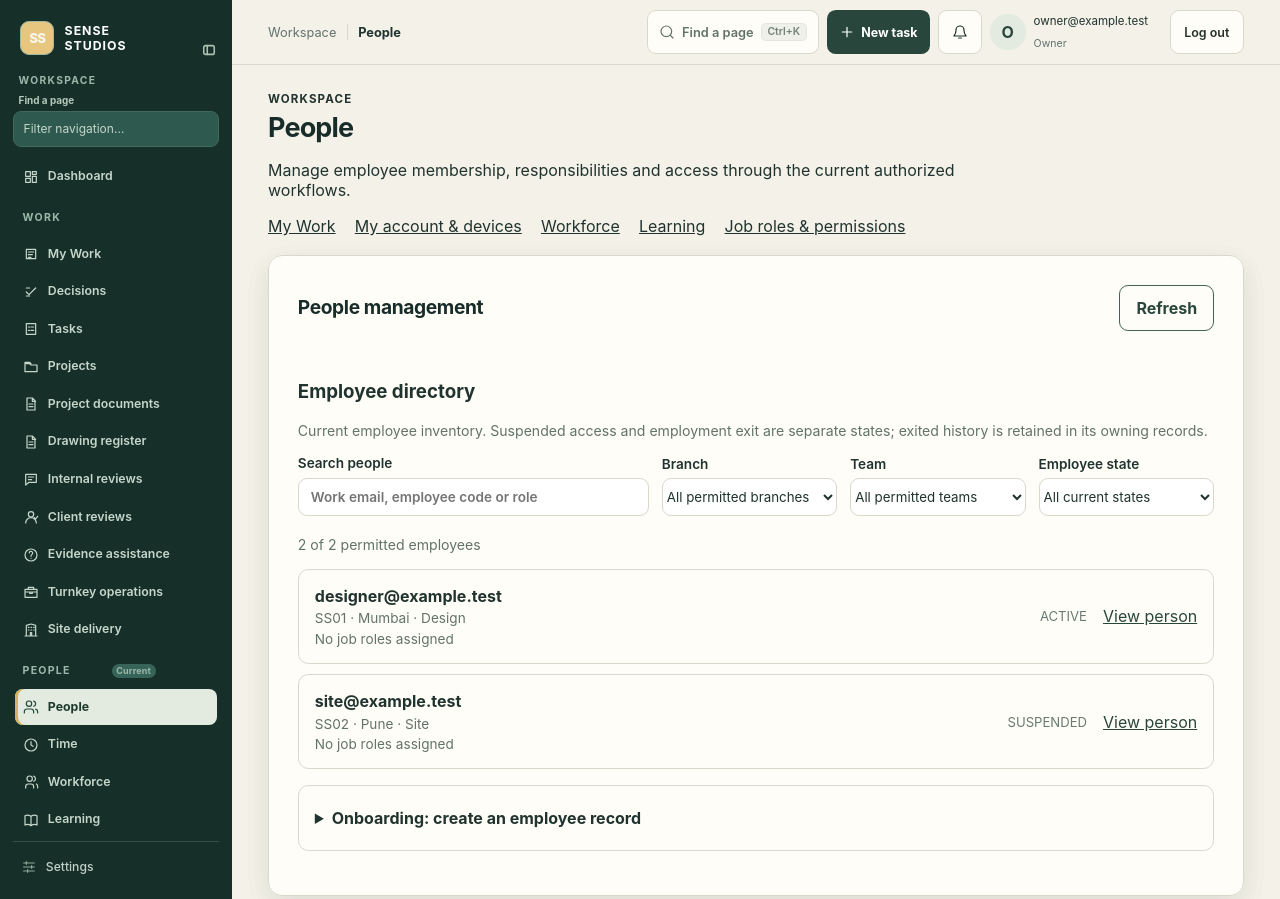
Scenario: People destination › filters authorized people and preserves list filters through selected detail and return
The image size is (1280, 899).
Expected: the heading "Employee directory" is shown, [298, 380, 475, 403]
Select "Mumbai" in the dropdown labelled "Branch" at (750, 497), box [662, 478, 837, 516]
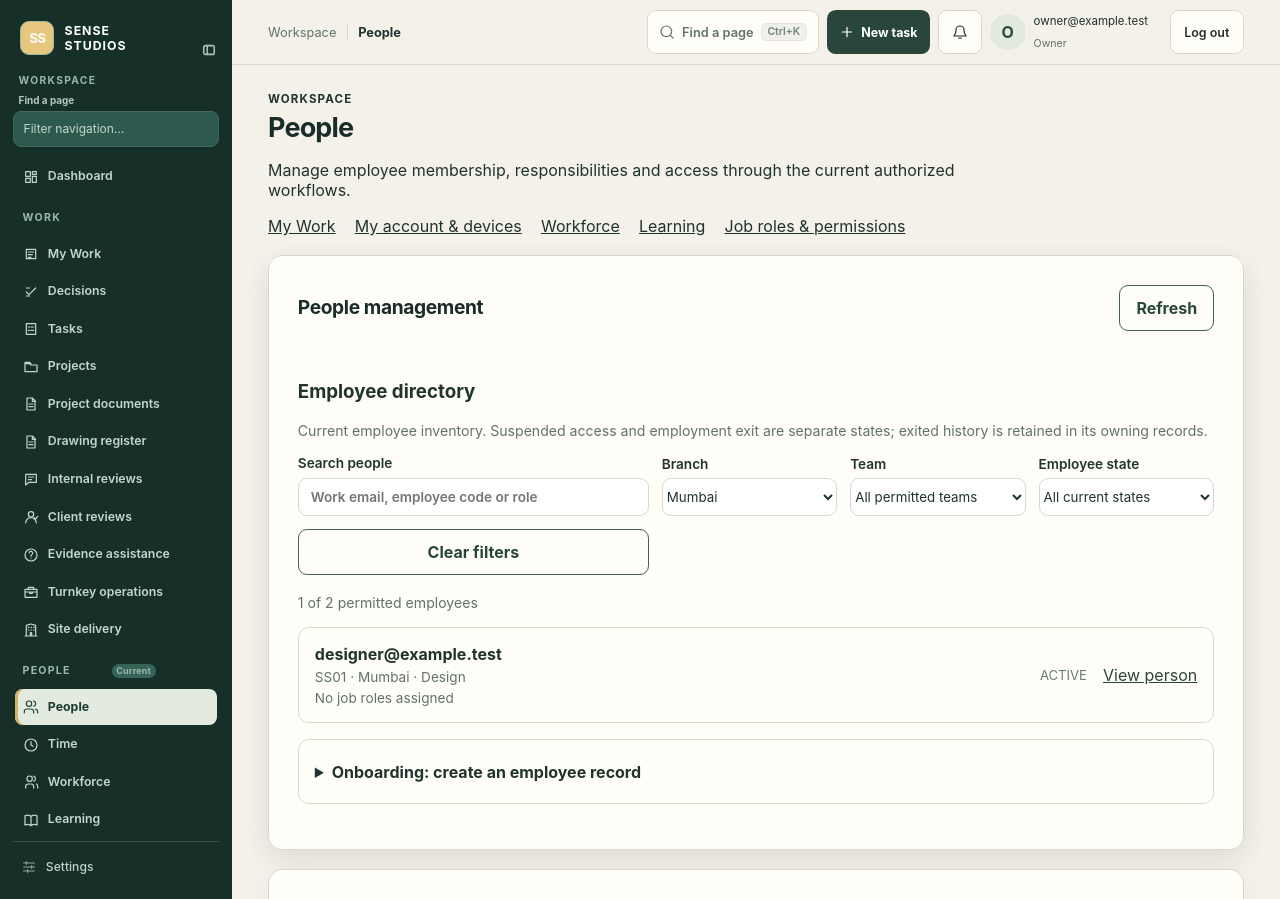
Click the link with aria-label "View designer@example.test" at (1150, 675), box [1103, 665, 1197, 685]
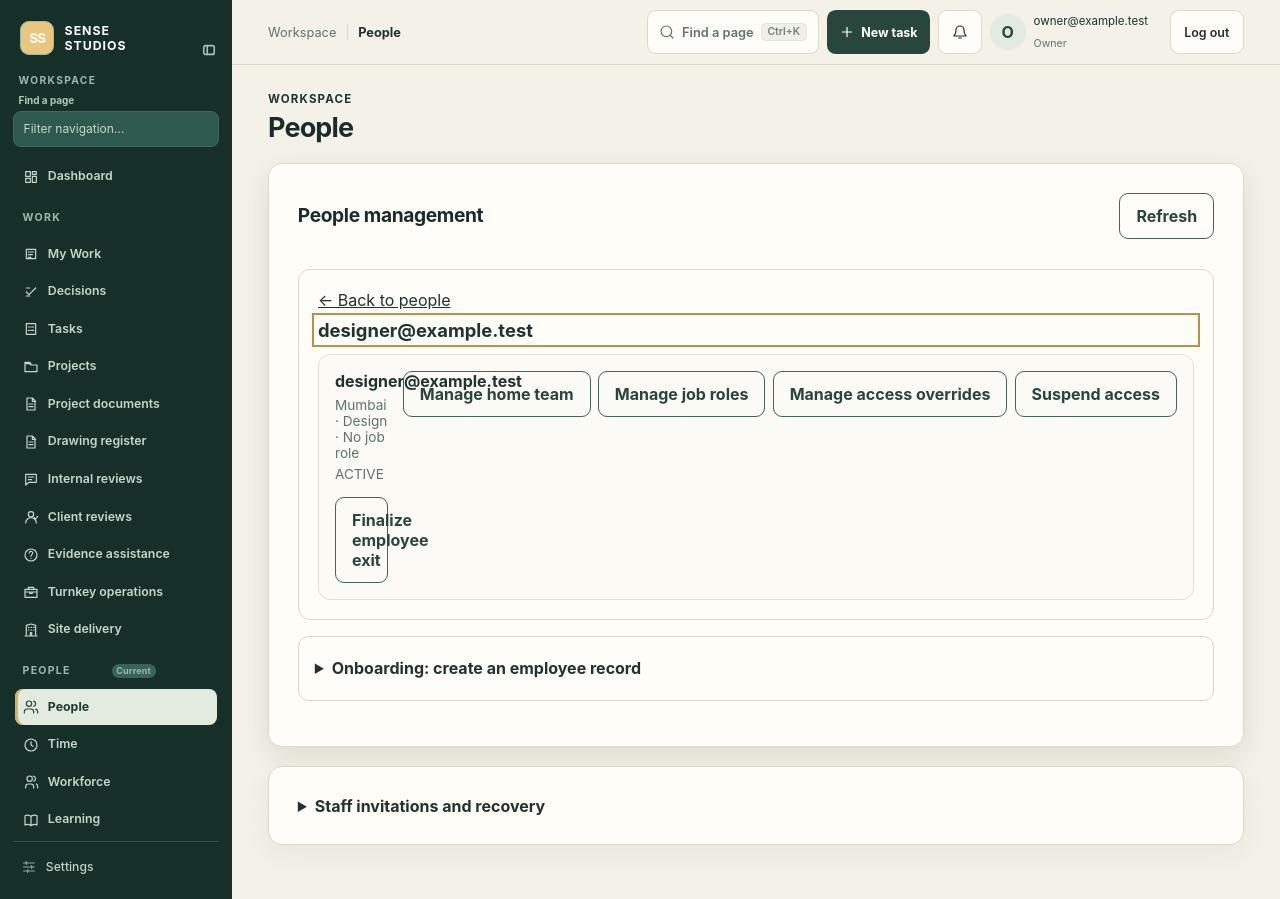
Expected: the text "site@example.test" is not shown
Expected: the button "Manage home team" is shown, [403, 371, 591, 417]
Click the link "← Back to people" at (384, 300), box [318, 290, 450, 310]
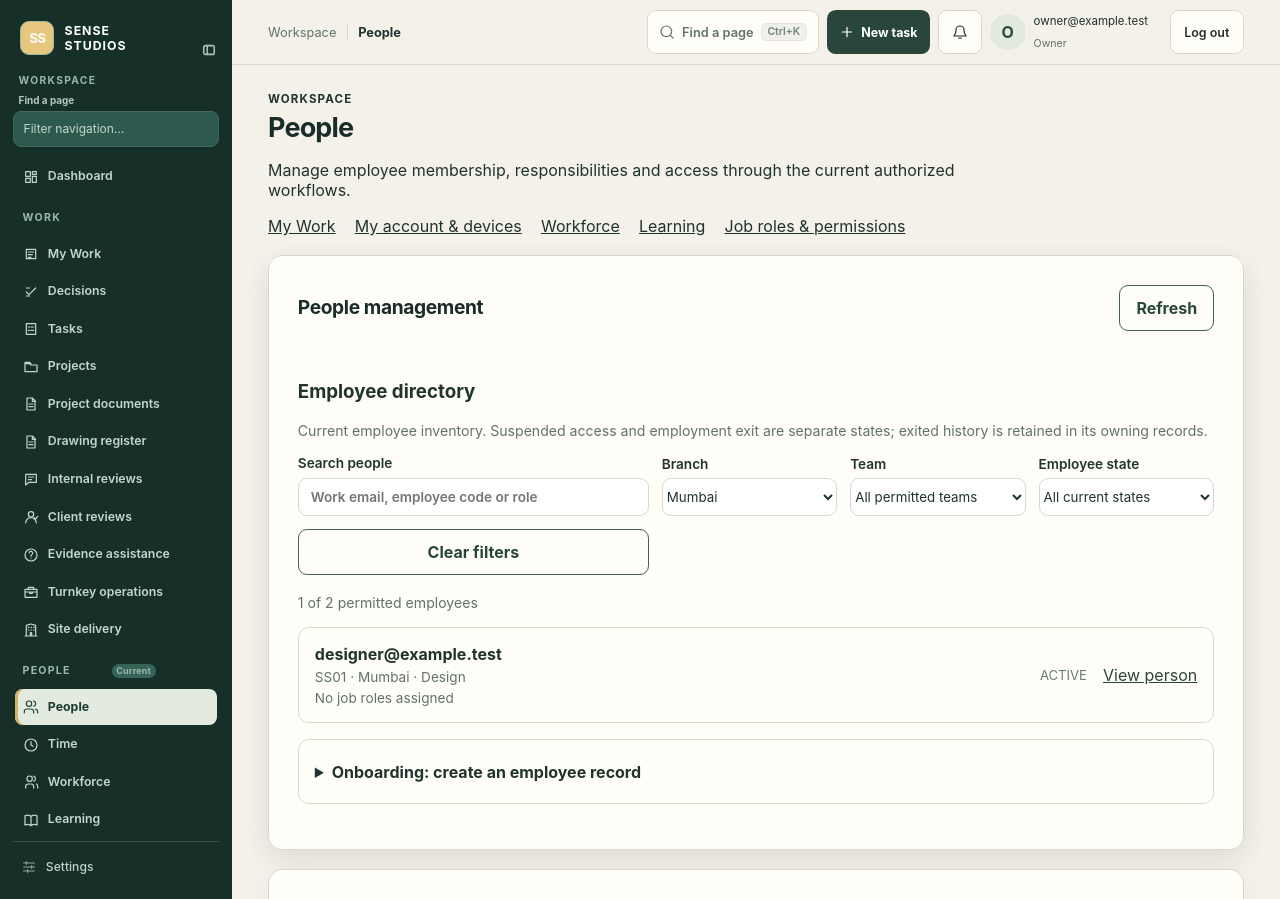
Expected: the dropdown labelled "Branch" shows "Mumbai", [662, 478, 837, 516]
